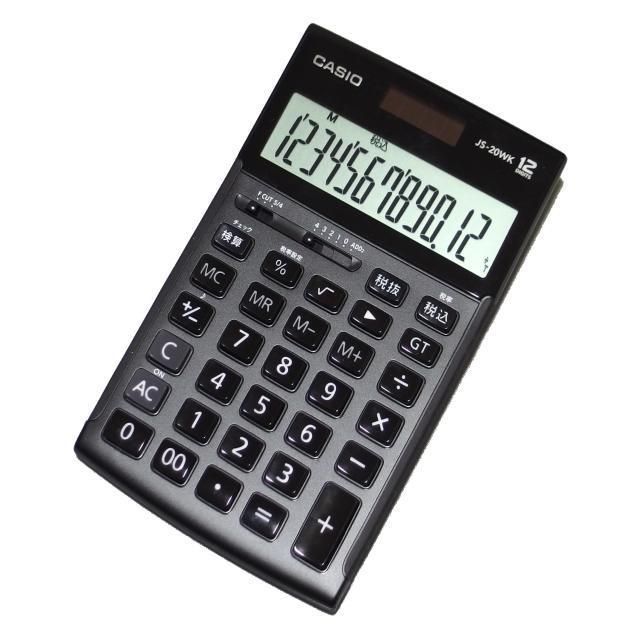Calculator: (69, 15, 570, 618)
